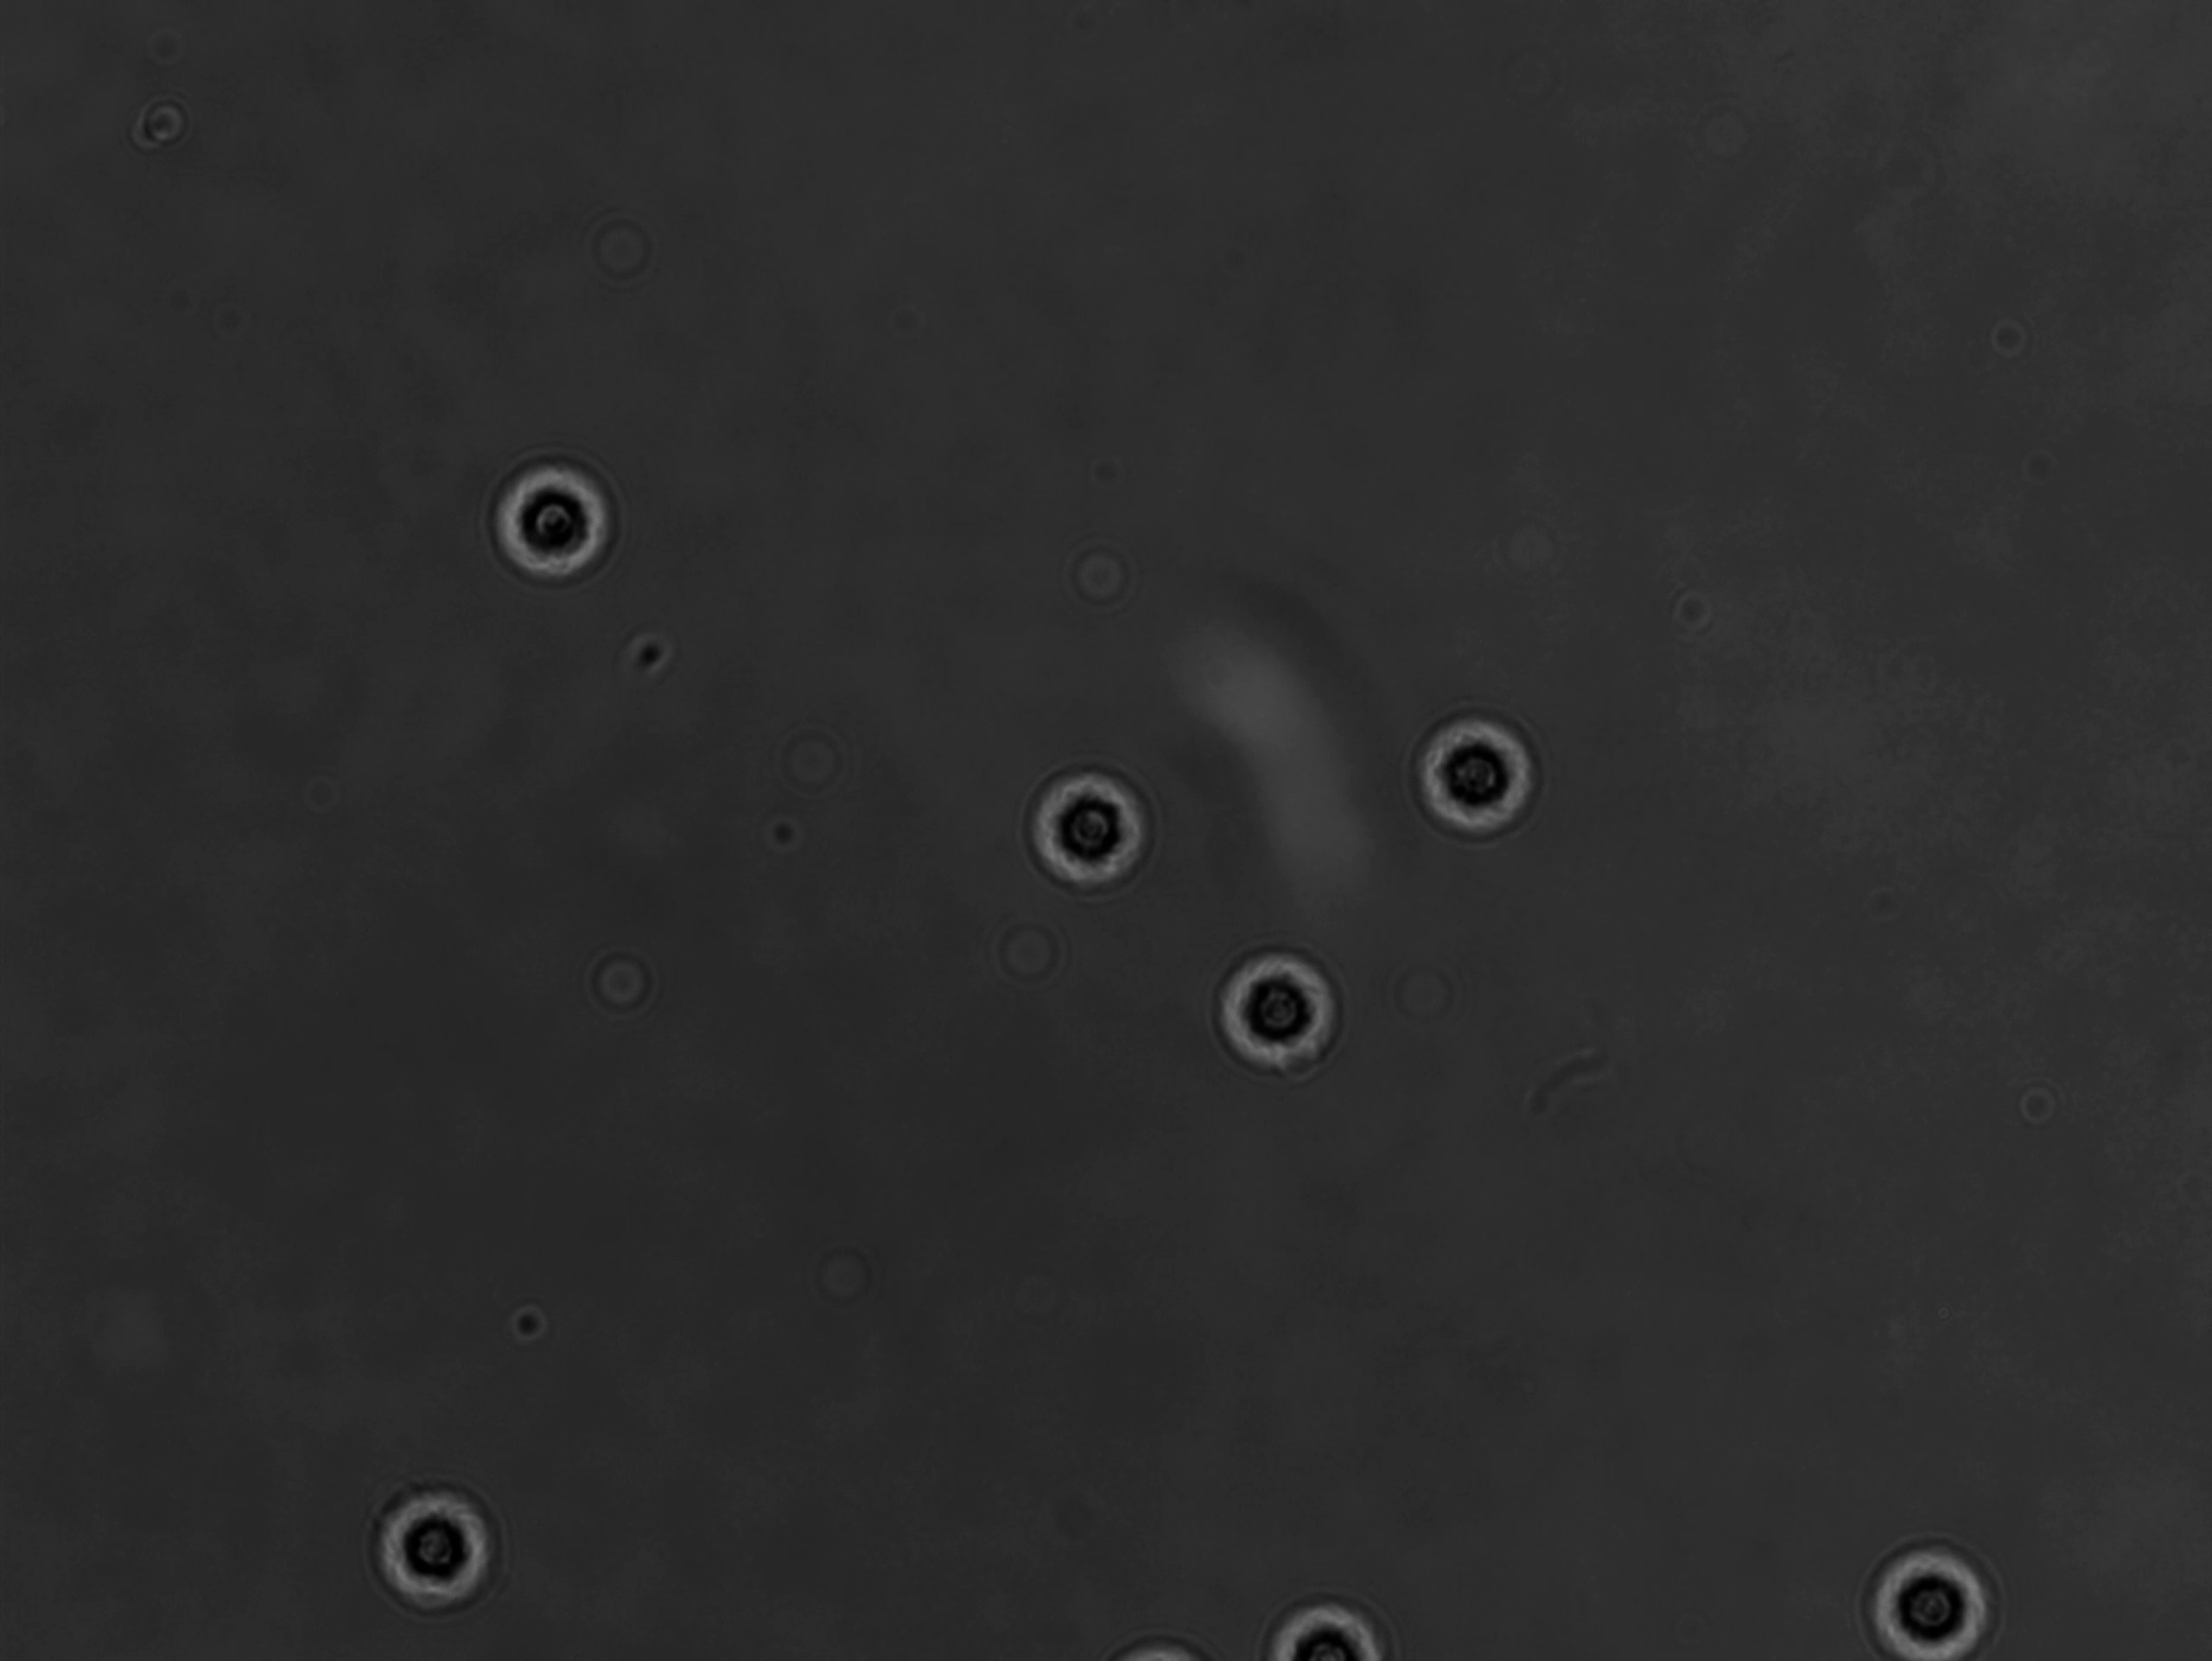depth:-20: (1383, 679, 1570, 860), (1193, 923, 1373, 1097), (476, 420, 635, 593), (354, 1462, 523, 1623), (1839, 1520, 2020, 1661), (1010, 759, 1171, 907)
